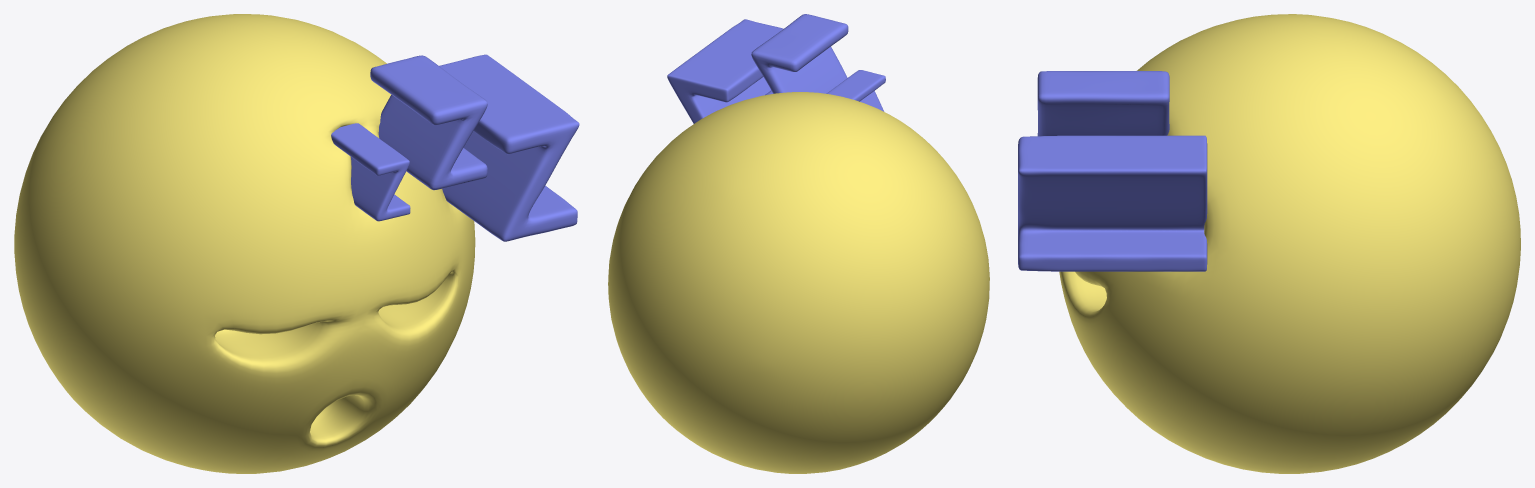
Rendered from 47_sleeping.glb.
3 renders of one model, left to right at view 1: azimuth 30°, elevation 25°; view 2: azimuth 150°, elevation 25°; view 3: azimuth 270°, elevation 25°, orthographic. The views are drawn at different scales.
Parts seen in each view (by area): view 1: Group16573, Group25699, Group49353, Group56751; view 2: Group16573, Group25699, Group49353, Group56751; view 3: Group16573, Group25699, Group49353.
Boxes of the visible parts, box(x1,y1,x2,y2) form: Group16573: box(14, 14, 475, 473); Group25699: box(439, 54, 579, 241); Group49353: box(370, 55, 487, 190); Group56751: box(331, 123, 410, 221); Group16573: box(608, 92, 989, 473); Group25699: box(667, 19, 783, 123); Group49353: box(751, 14, 848, 95); Group56751: box(826, 70, 885, 111); Group16573: box(1059, 14, 1520, 473); Group25699: box(1018, 135, 1207, 271); Group49353: box(1037, 71, 1169, 136).
Bounding box in the file's own units: 0.5368 × 0.5339 × 0.5834.
